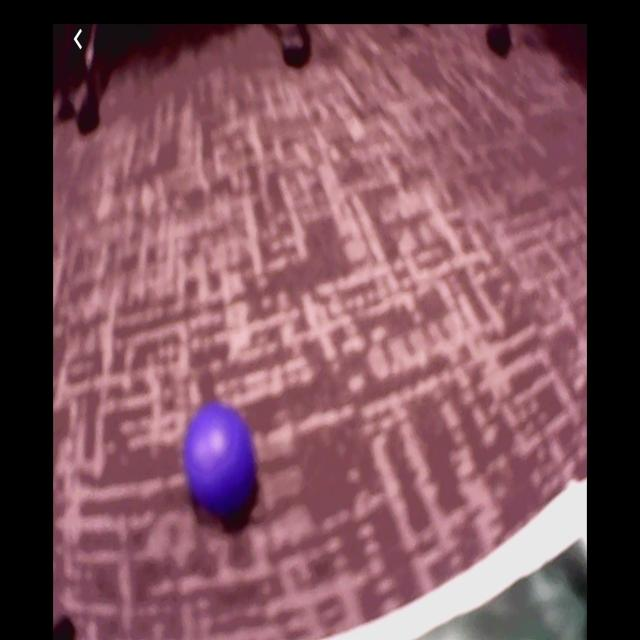ball: (186, 408, 257, 513)
